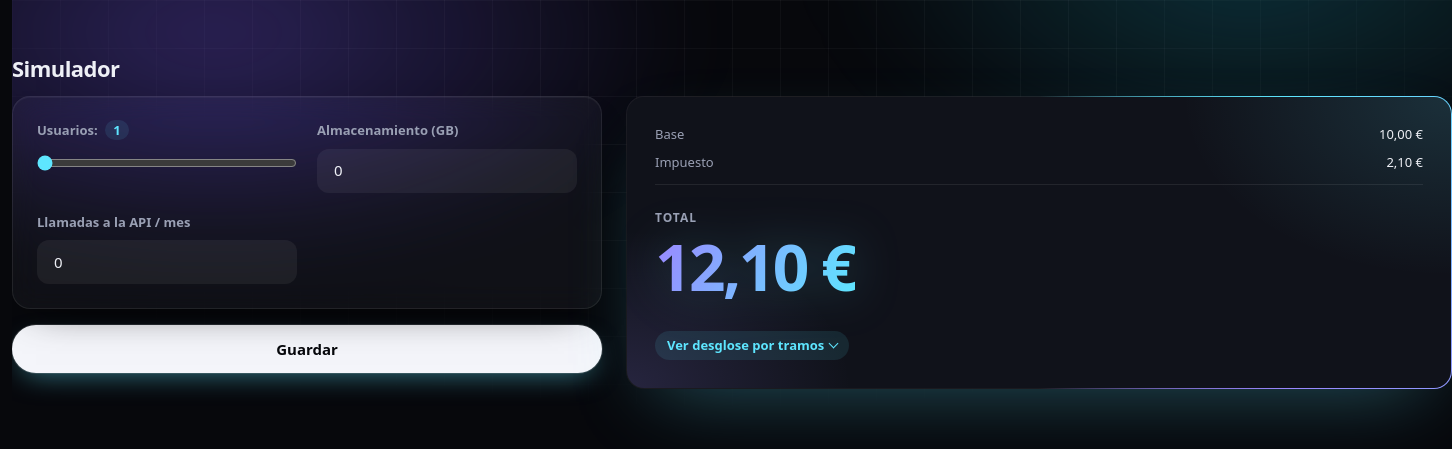
it: Simulator › CA-92: el slider se limita a 1–500 y la proyección se actualiza desde el preview
The image size is (1452, 449).
Later steps or results of the test are not shown.
Set the slider labelled "Usuarios: 1" to "600" at [167, 163], box top-left (37, 149), bottom-right (297, 177)
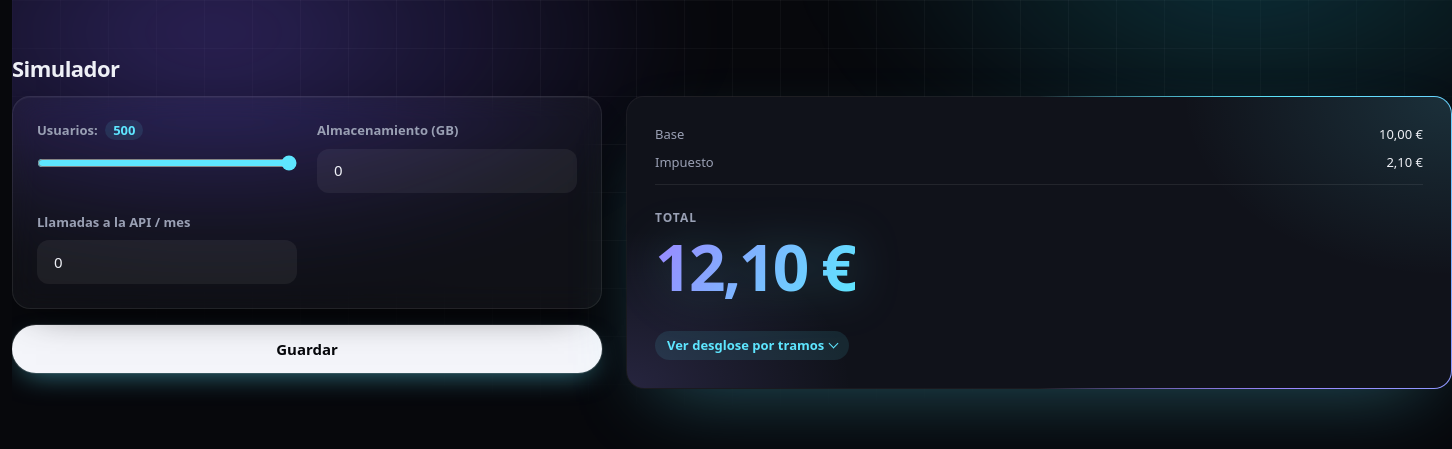
expect the slider labelled "Usuarios: 500" holds "500": met
Set the slider labelled "Usuarios: 500" to "0" at [167, 163], box top-left (37, 149), bottom-right (297, 177)
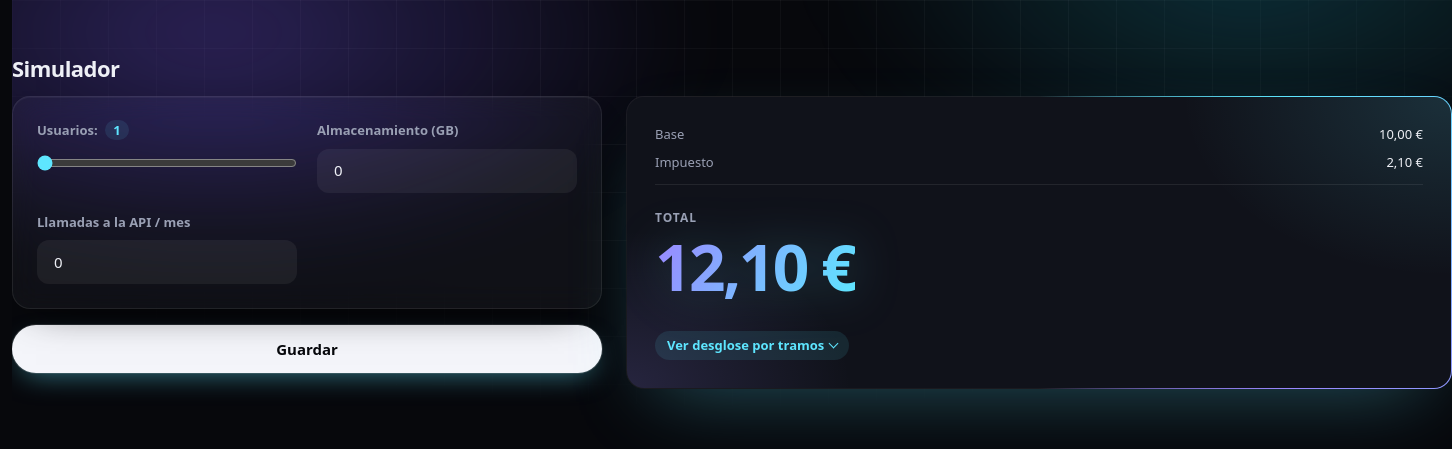
expect the slider labelled "Usuarios: 1" holds "1": met, box top-left (37, 149), bottom-right (297, 177)
